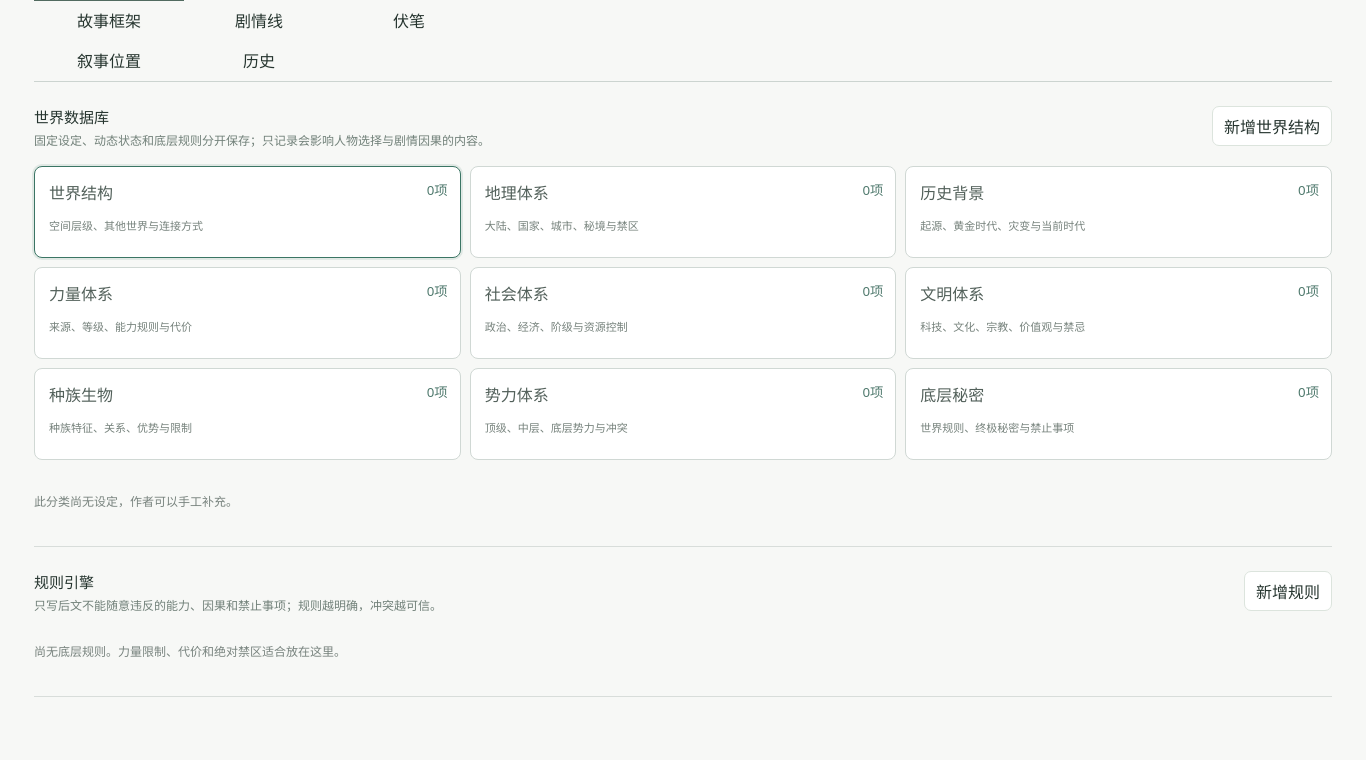
Scenario: BlueprintWorkspace manual editing › saves only the mounted partition with its expected state version
This screenshot has width=1366, height=760.
(page scrolled)
expect the heading "世界数据库" is shown: met, box top-left (34, 107), bottom-right (109, 127)
Click the button "新增规则". click: point(1288, 591)
box: top-left (1244, 571), bottom-right (1332, 611)
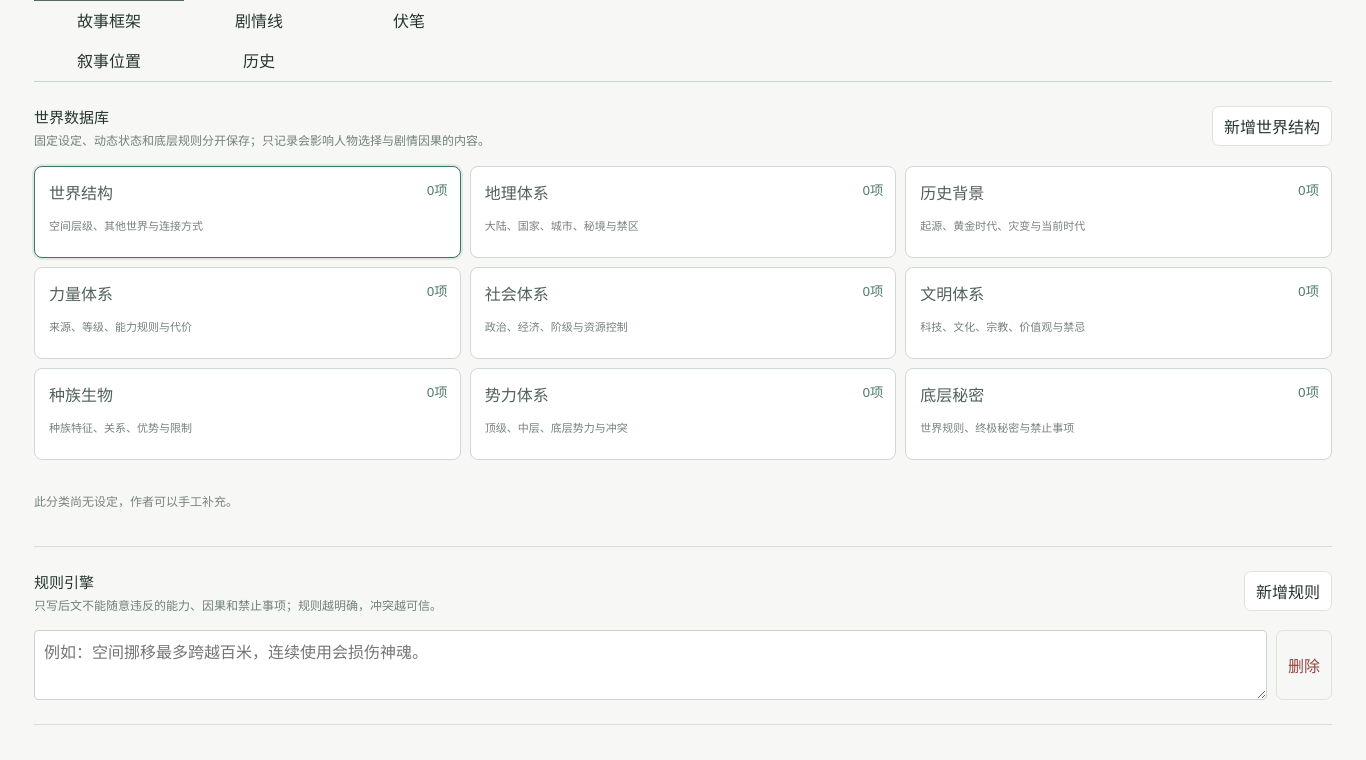
Type "潮印必须支付记忆" into the text box named "世界规则". click: point(650, 665)
box: top-left (34, 630), bottom-right (1267, 700)
(page scrolled)
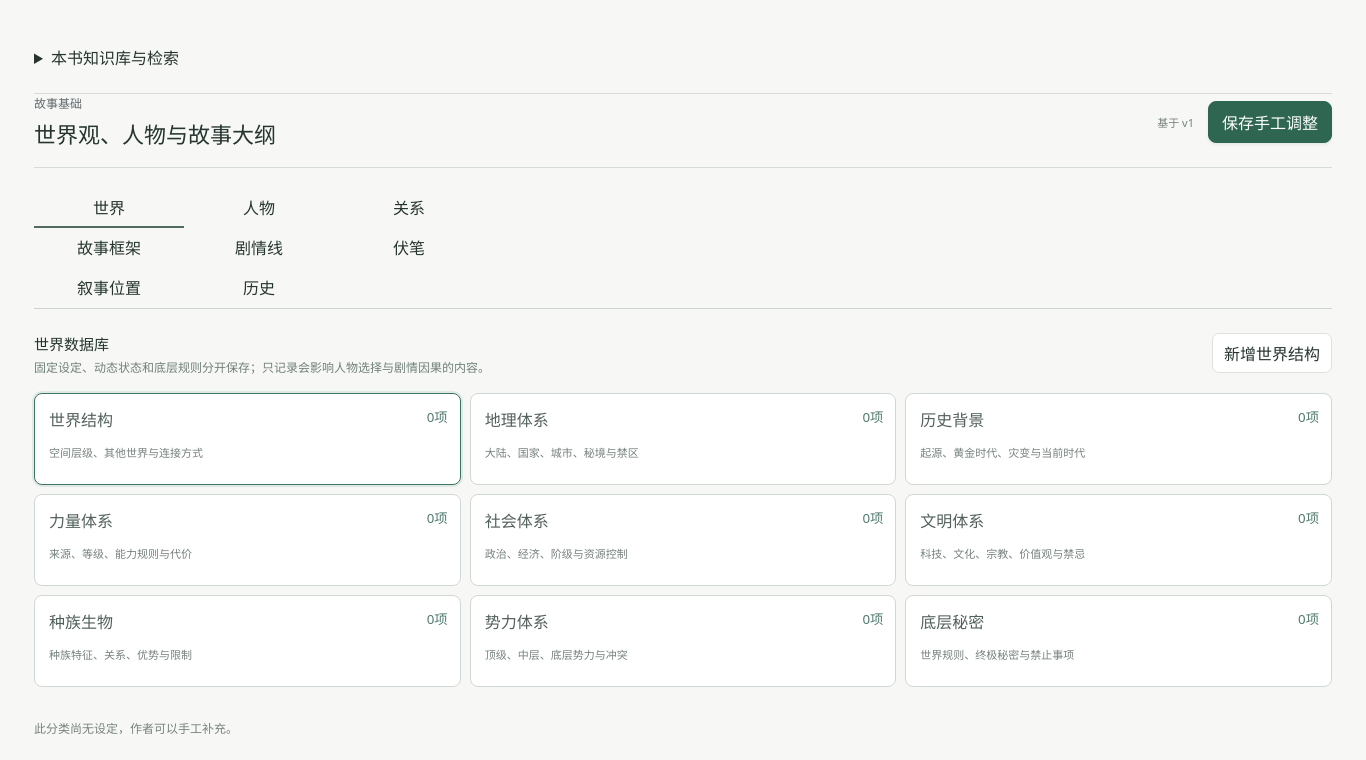
Click the button "保存手工调整". click: point(1270, 122)
box: top-left (1208, 100), bottom-right (1332, 142)
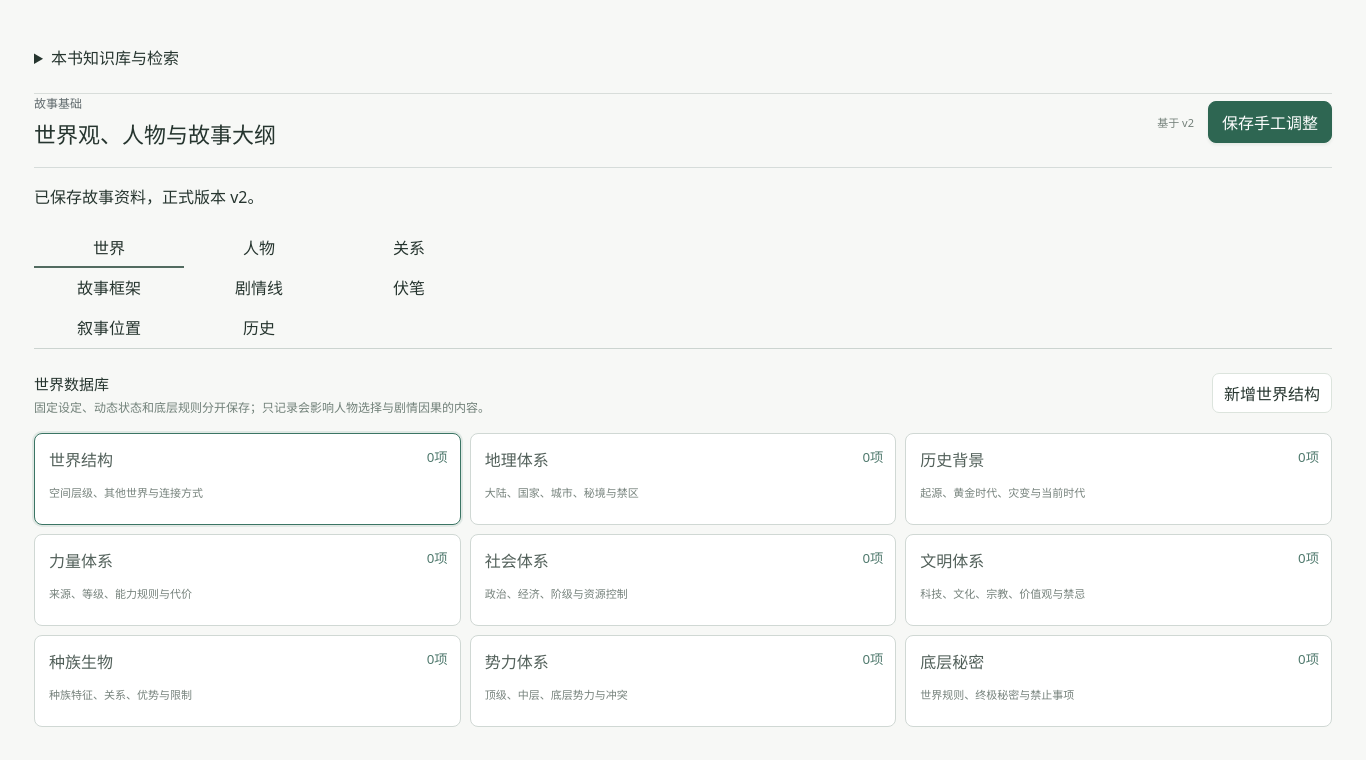
expect the text "基于 v2" is shown: met, box top-left (1157, 114), bottom-right (1194, 130)
